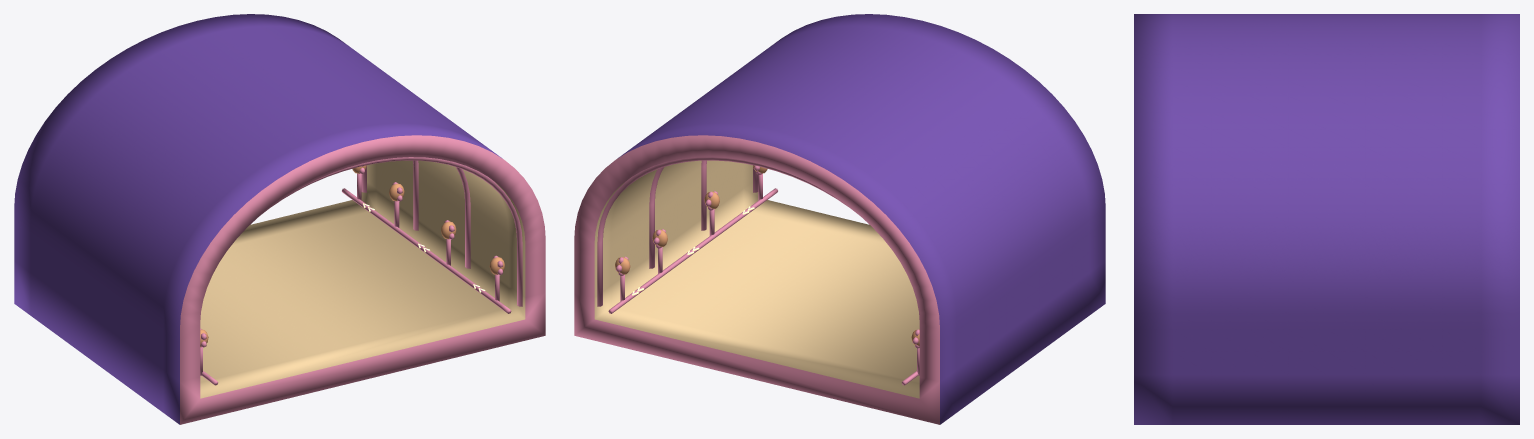
File: straight_12m.glb
3 renders of one model, left to right at view 1: azimuth 30°, elevation 25°; view 2: azimuth 150°, elevation 25°; view 3: azimuth 270°, elevation 25°, orthographic. The views are drawn at different scales.
Visible parts, largest first — view 1: TunnelGeometry; view 2: TunnelGeometry; view 3: TunnelGeometry.
Part boxes in pixels (<box>): TunnelGeometry: <box>14,14,545,424</box>; TunnelGeometry: <box>574,14,1105,424</box>; TunnelGeometry: <box>1134,14,1519,424</box>.
Bounding box in the file's own units: 15.3 × 9.52 × 12.
5 materials, 2 textured.
